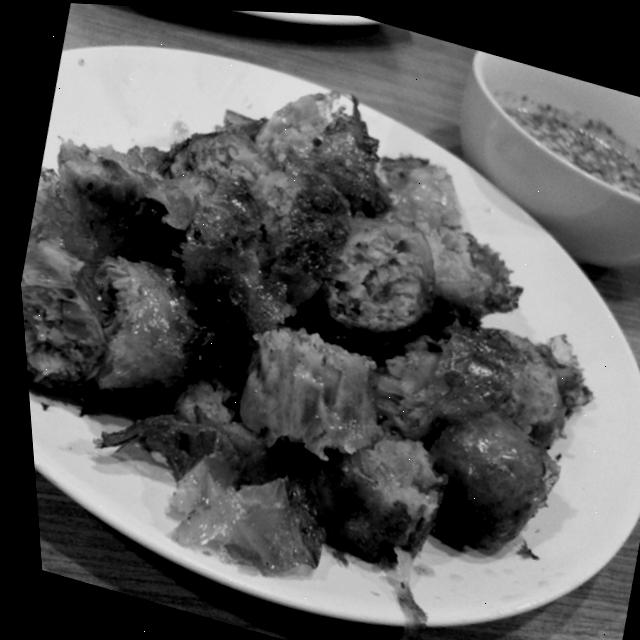炸货点心: (1, 10, 640, 640)
